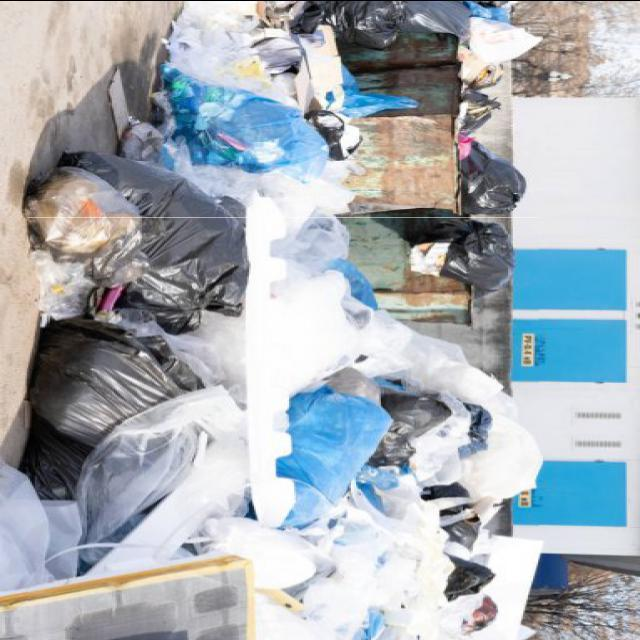Trashbag: (61, 134, 265, 328), (24, 317, 184, 443), (448, 136, 558, 221), (298, 0, 487, 47), (437, 225, 545, 303)
